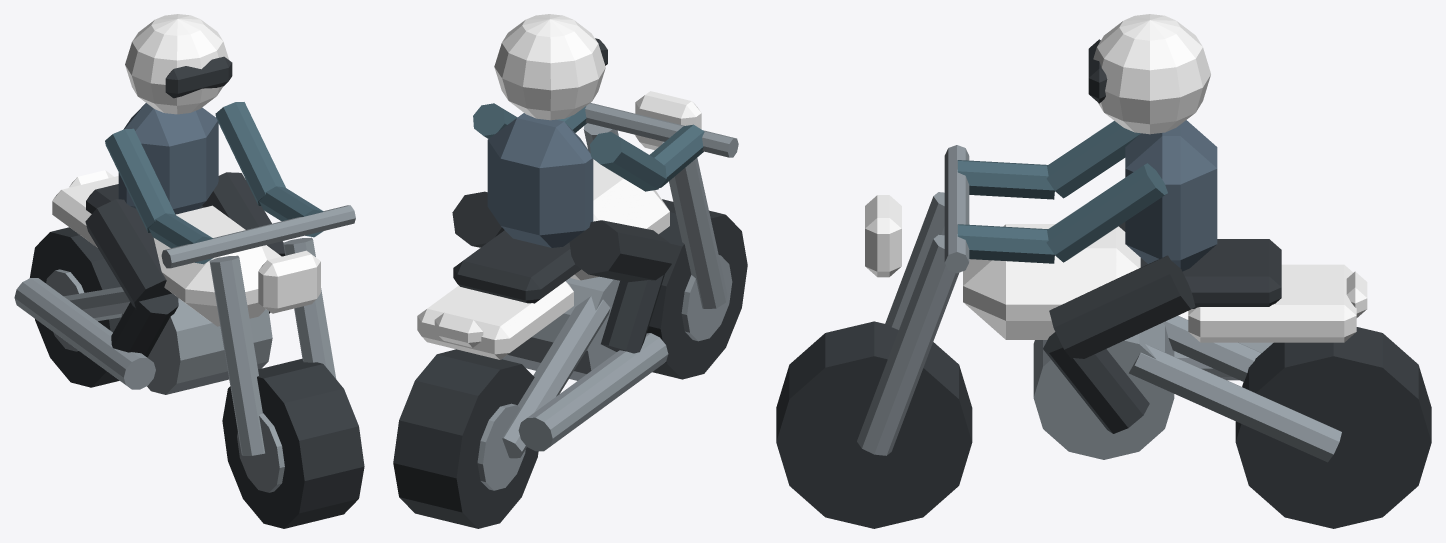
The model's file is motorcycle.glb.
3 views of the same model, side by side, from view 1: azimuth 30°, elevation 25°; view 2: azimuth 150°, elevation 25°; view 3: azimuth 270°, elevation 25° (orthographic). The views are drawn at different scales.
Visible parts, largest first — view 1: trim, body, head; view 2: trim, body, head, tail; view 3: trim, body, head.
Part boxes in pixels (x1,y1,x2,y2): trim: [14, 56, 364, 528]; body: [52, 14, 281, 326]; head: [258, 250, 320, 313]; trim: [393, 38, 747, 528]; body: [417, 14, 669, 359]; head: [635, 91, 701, 149]; tail: [434, 312, 483, 347]; trim: [776, 39, 1431, 528]; body: [963, 14, 1356, 342]; head: [865, 195, 901, 277].
Size of the model in its own units: 0.85 by 1.82 by 2.2.
